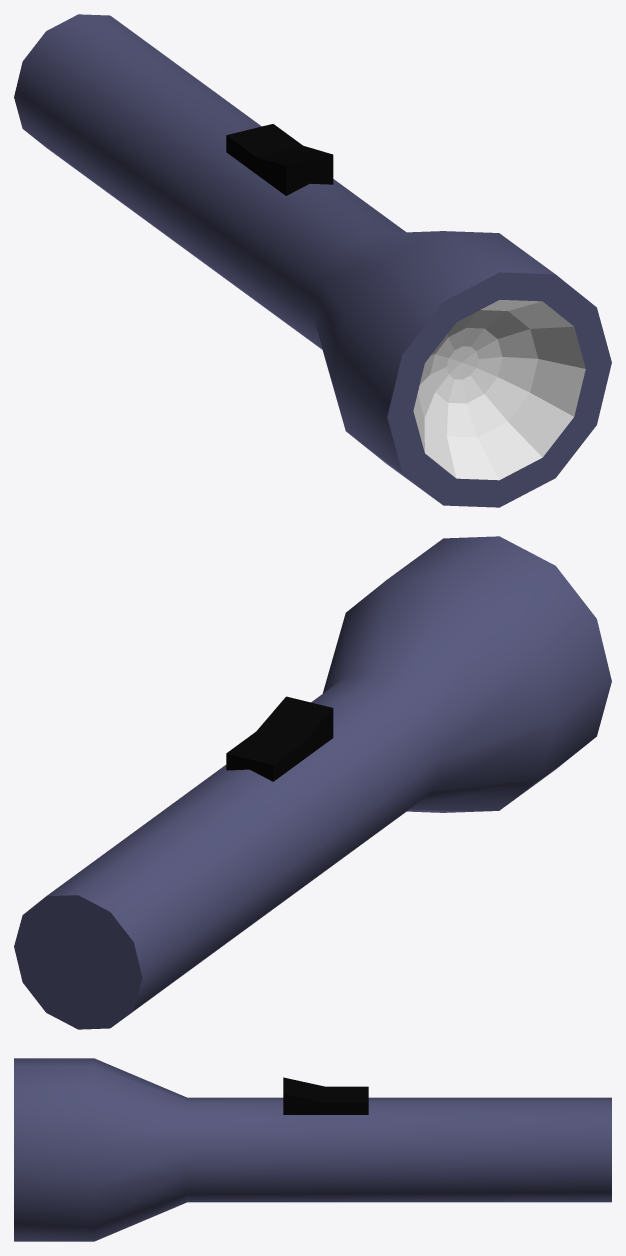
The model's file is tmp_flashliht.fbx.
3 renders of one model, top to bottom at view 1: azimuth 30°, elevation 25°; view 2: azimuth 150°, elevation 25°; view 3: azimuth 270°, elevation 25°, orthographic. The views are drawn at different scales.
Visible parts, largest first — view 1: Cylinder.001; view 2: Cylinder.001; view 3: Cylinder.001.
Boxes of the visible parts, x1=… form: Cylinder.001: x1=14, y1=14, x2=611, y2=507; Cylinder.001: x1=14, y1=536, x2=611, y2=1029; Cylinder.001: x1=14, y1=1058, x2=611, y2=1241.
Bounding box in the file's own units: 6 × 6 × 19.48.
